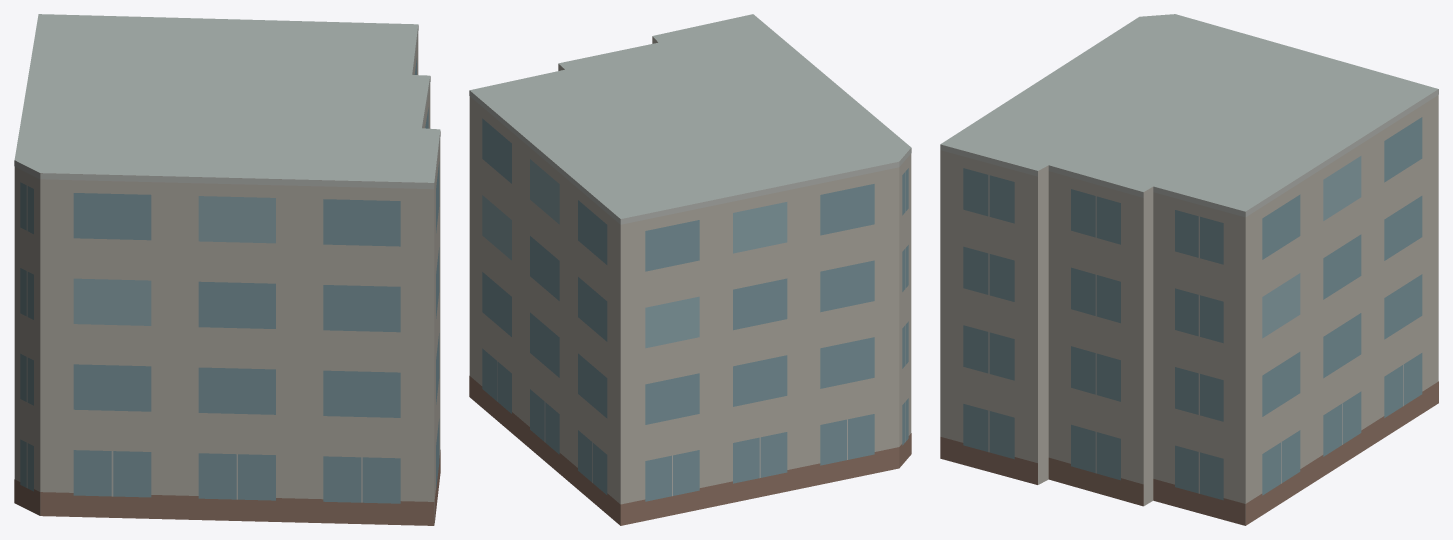
The model's file is survey-upis-32999385.glb.
3 views of the same model, side by side, from view 1: azimuth 30°, elevation 25°; view 2: azimuth 150°, elevation 25°; view 3: azimuth 270°, elevation 25° (orthographic). The views are drawn at different scales.
Visible parts, largest first — view 1: survey-upis-32999385.tmp; view 2: survey-upis-32999385.tmp; view 3: survey-upis-32999385.tmp.
Boxes of the visible parts, x1=… form: survey-upis-32999385.tmp: x1=14, y1=14, x2=440, y2=525; survey-upis-32999385.tmp: x1=469, y1=14, x2=911, y2=525; survey-upis-32999385.tmp: x1=940, y1=14, x2=1438, y2=525.
Bounding box in the file's own units: 17.91 × 13.27 × 19.09.
